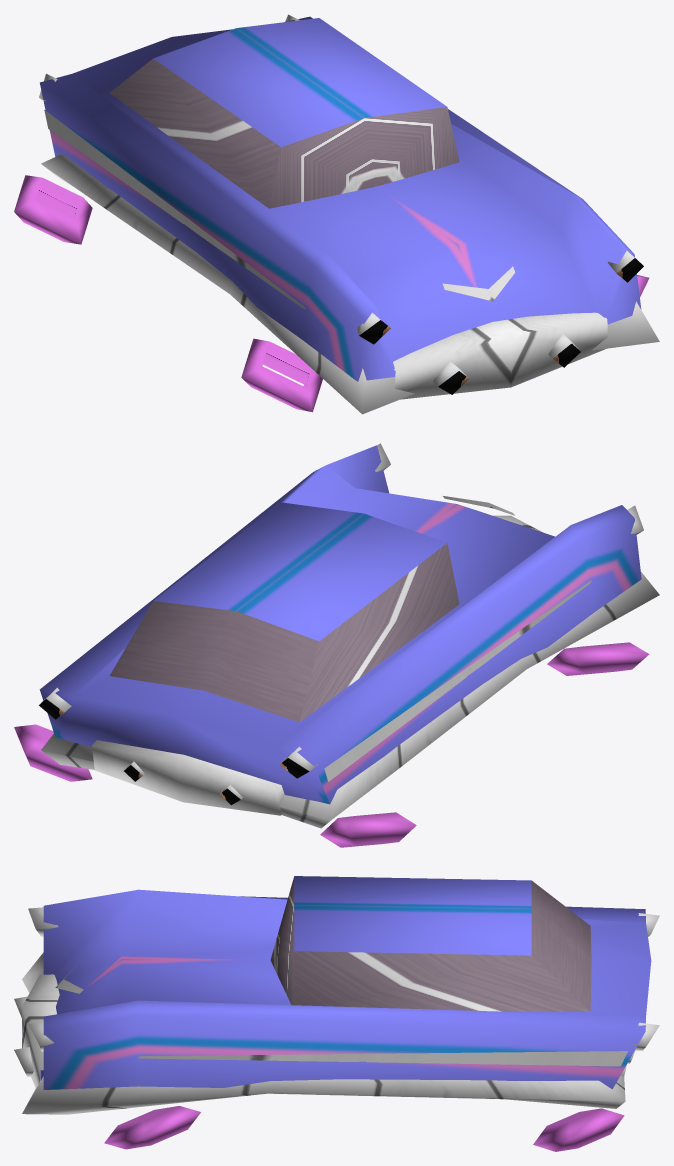
The model's file is SM_Car_01b.fbx.
3 views of the same model, one above another, from view 1: azimuth 30°, elevation 25°; view 2: azimuth 150°, elevation 25°; view 3: azimuth 270°, elevation 25° (orthographic). The views are drawn at different scales.
Parts seen in each view (by area): view 1: SM_Car_01b; view 2: SM_Car_01b; view 3: SM_Car_01b.
Part boxes in pixels (box(x1,y1,x2,y2)): SM_Car_01b: box(14, 14, 659, 414); SM_Car_01b: box(14, 443, 659, 847); SM_Car_01b: box(14, 876, 659, 1151).
Bounding box in the file's own units: 804 × 1189 × 355.
